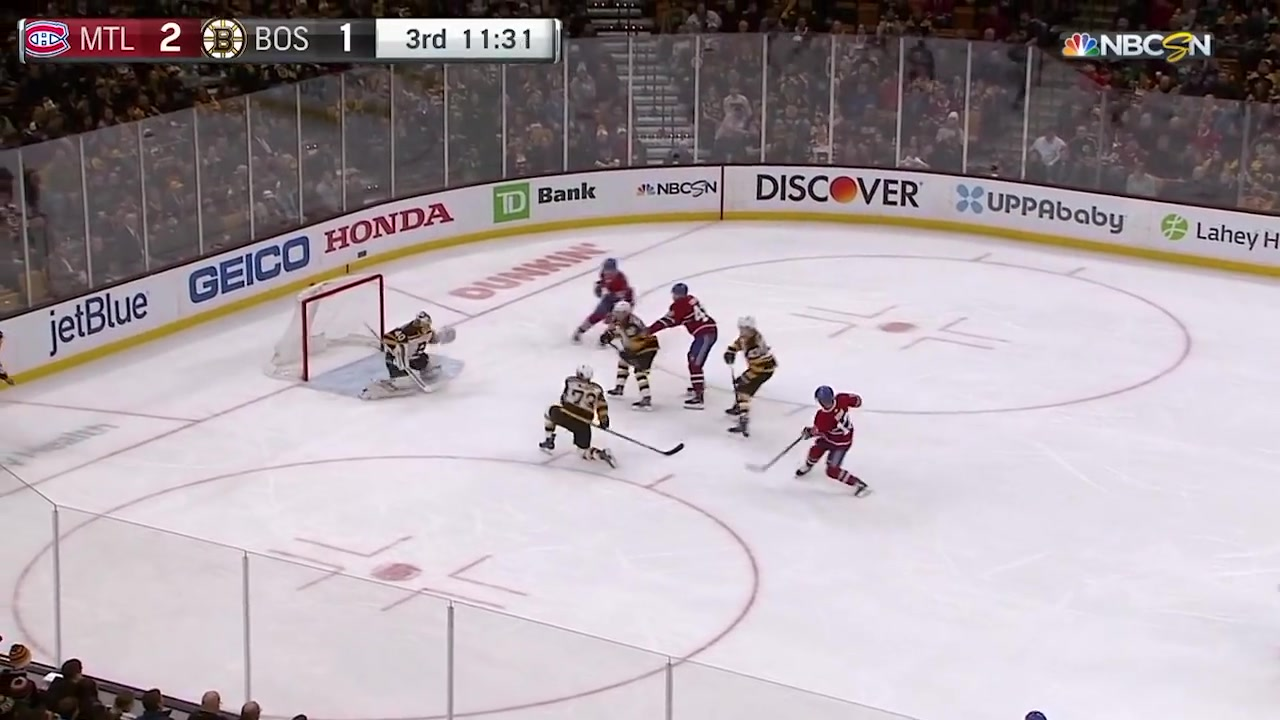Geico: (193, 233, 317, 303)
